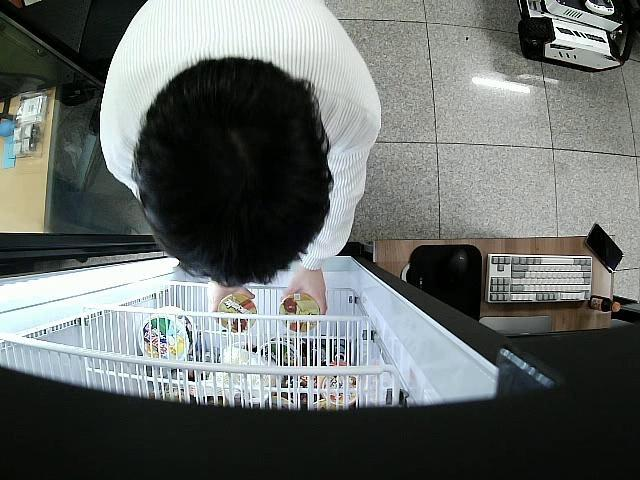04_chapagetti_S: (215, 292, 258, 334), (278, 293, 319, 332)
